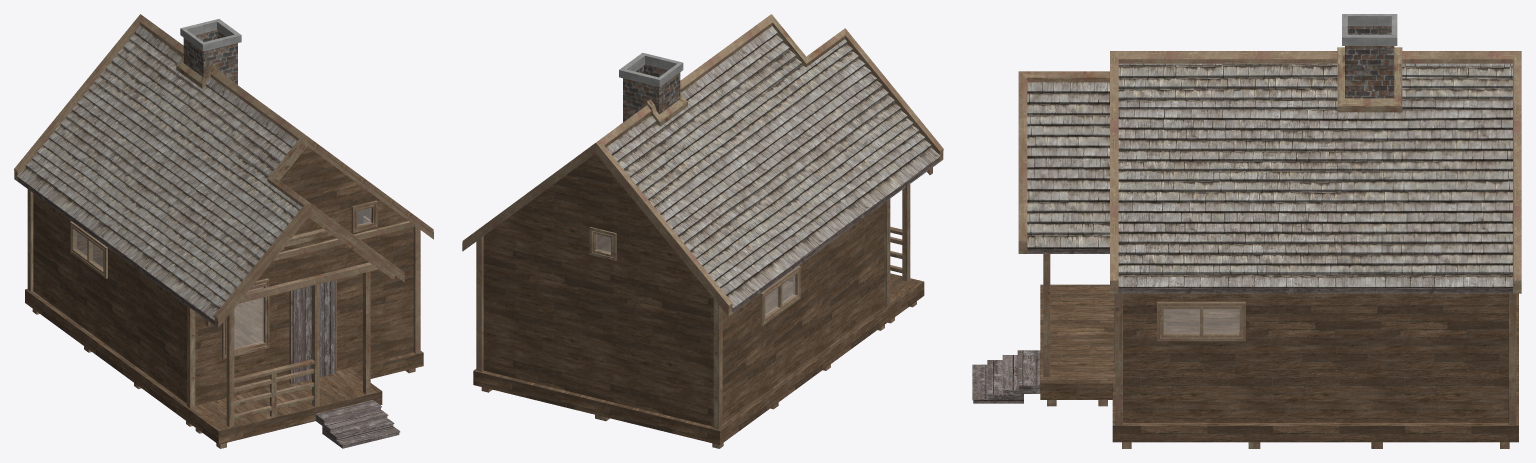
Rendered from house_1.gltf.
3 views of the same model, side by side, from view 1: azimuth 30°, elevation 25°; view 2: azimuth 150°, elevation 25°; view 3: azimuth 270°, elevation 25° (orthographic). The views are drawn at different scales.
Parts seen in each view (by area): view 1: building_001.011, building_001.009, building_001.008, building_001.010, Cube.004, Cube.012, building_001.012, building_001.013, Cube.028, building_001.007, Cube.007, Cube.011 (+3 smaller); view 2: building_001.011, building_001.009, building_001.008, Cube.004, building_001.012, building_001.010, building_001.007, Cube.028, Cube.007, Cube.006; view 3: building_001.009, building_001.011, building_001.008, building_001.012, building_001.013, building_001.007, Cube.004, Cube.028, Cube.020, Cube.013, building_001.010.
Boxes of the visible parts, <box> form: building_001.011: <box>25,146,423,444</box>; building_001.009: <box>17,25,302,320</box>; building_001.008: <box>14,14,433,327</box>; building_001.010: <box>205,214,394,427</box>; Cube.004: <box>27,189,420,408</box>; Cube.012: <box>292,280,334,383</box>; building_001.012: <box>180,19,241,84</box>; building_001.013: <box>315,400,400,448</box>; Cube.028: <box>75,208,371,348</box>; building_001.007: <box>18,177,214,325</box>; Cube.007: <box>71,226,104,274</box>; Cube.011: <box>225,282,266,355</box>; building_001.011: <box>473,153,924,444</box>; building_001.009: <box>606,26,940,308</box>; building_001.008: <box>462,14,943,316</box>; Cube.004: <box>476,199,890,429</box>; building_001.012: <box>619,52,683,122</box>; building_001.010: <box>890,167,932,281</box>; building_001.007: <box>732,157,939,313</box>; Cube.028: <box>596,234,794,315</box>; Cube.007: <box>764,270,798,321</box>; Cube.006: <box>760,265,800,326</box>; building_001.009: <box>1027,63,1512,287</box>; building_001.011: <box>1040,284,1518,442</box>; building_001.008: <box>1018,47,1521,293</box>; building_001.012: <box>1342,14,1397,98</box>; building_001.013: <box>972,350,1040,403</box>; building_001.007: <box>1027,249,1512,293</box>; Cube.004: <box>1115,293,1516,424</box>; Cube.028: <box>1164,309,1239,333</box>; Cube.020: <box>1157,301,1245,341</box>; Cube.013: <box>1161,306,1242,337</box>; building_001.010: <box>1043,254,1050,376</box>.
Bounding box in the file's own units: 8.4 × 9.2 × 12.69.
10 materials, 9 textured.
